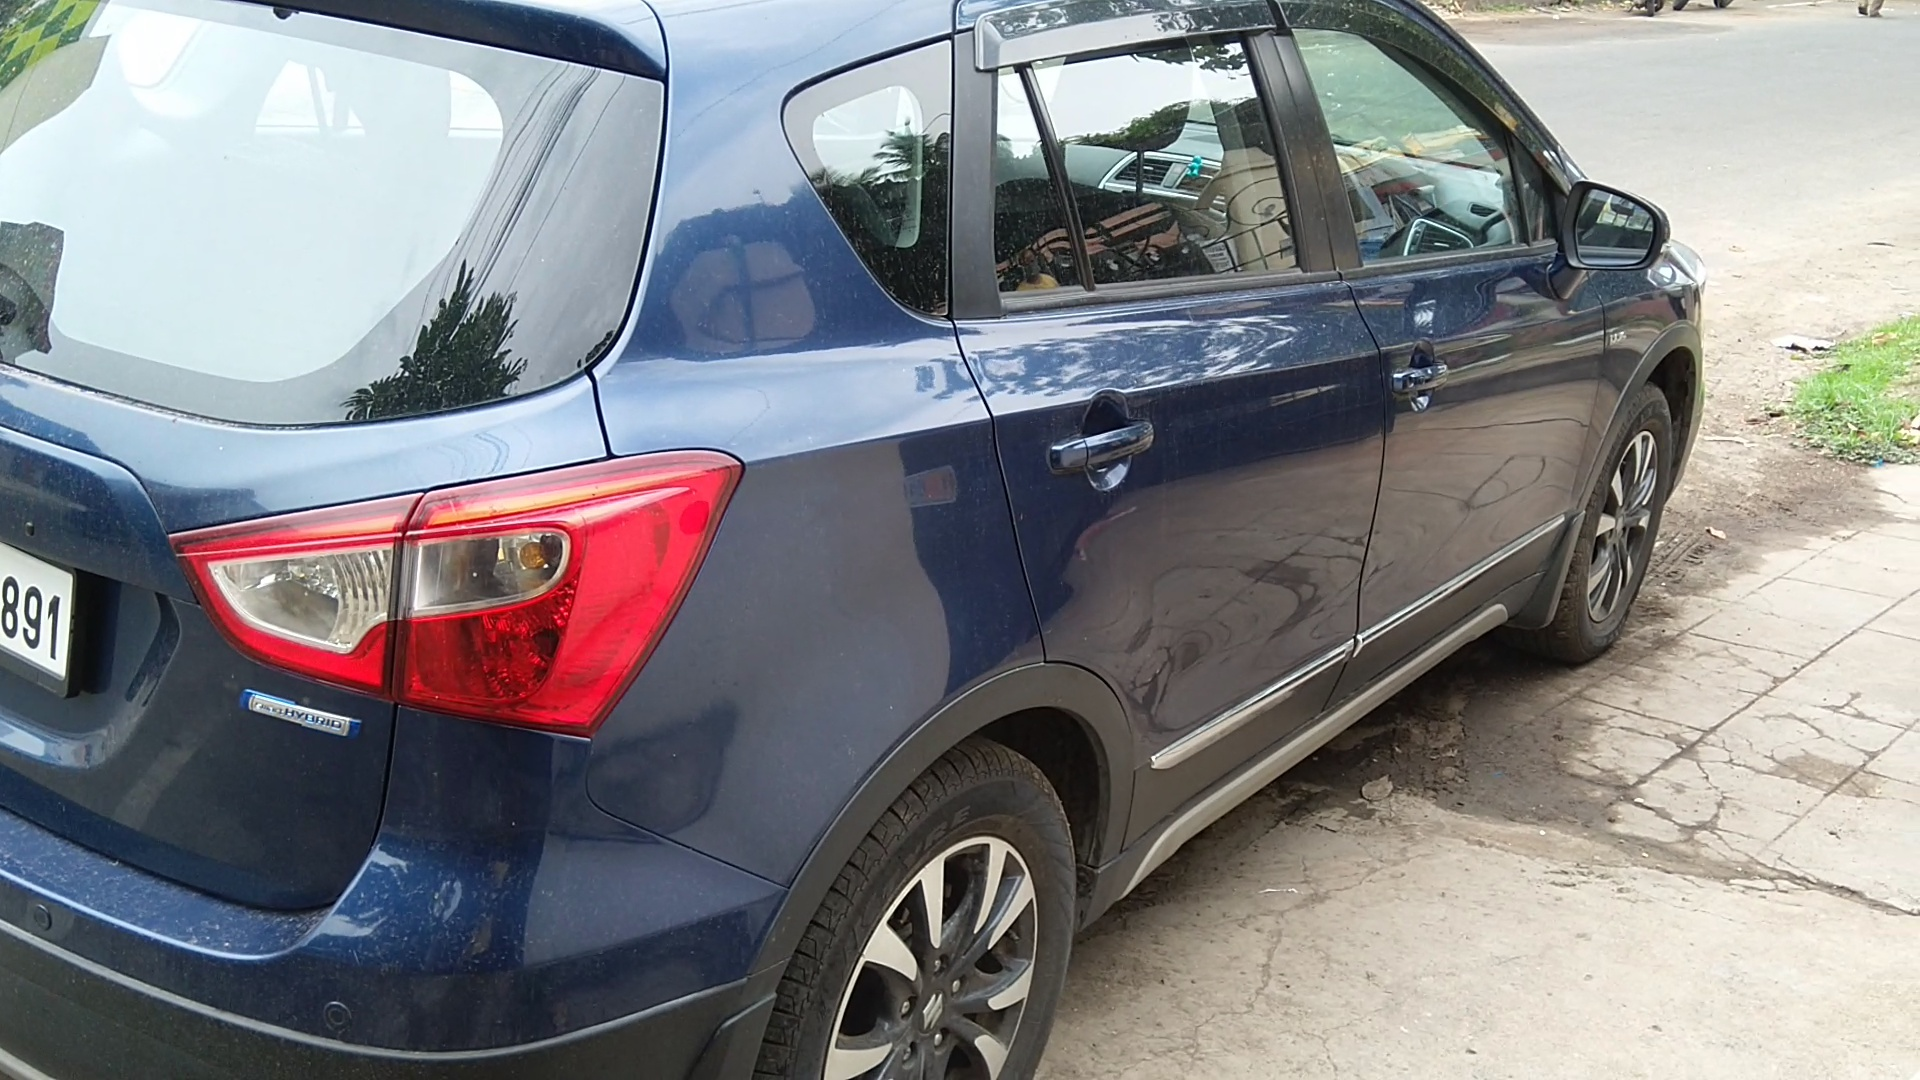alloy_wheel: (789, 750, 1084, 1080), (1545, 375, 1695, 650)
shvs: (229, 670, 378, 771)
